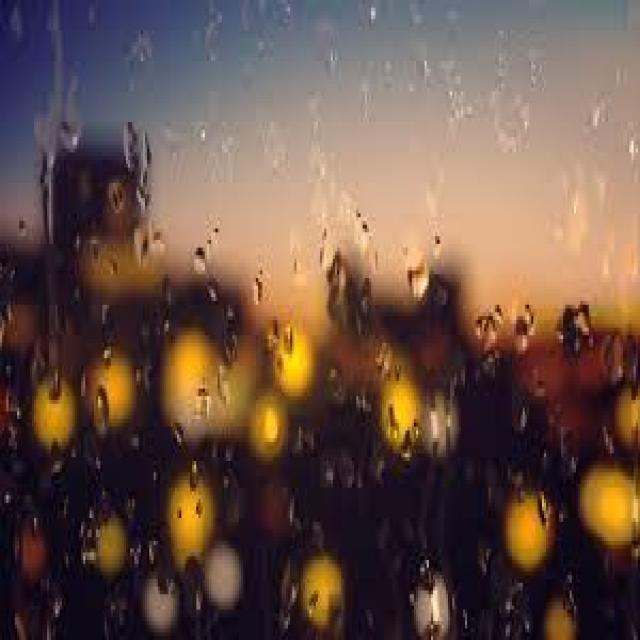raindrop: (402, 245, 447, 339), (82, 378, 122, 450), (127, 208, 155, 274)
